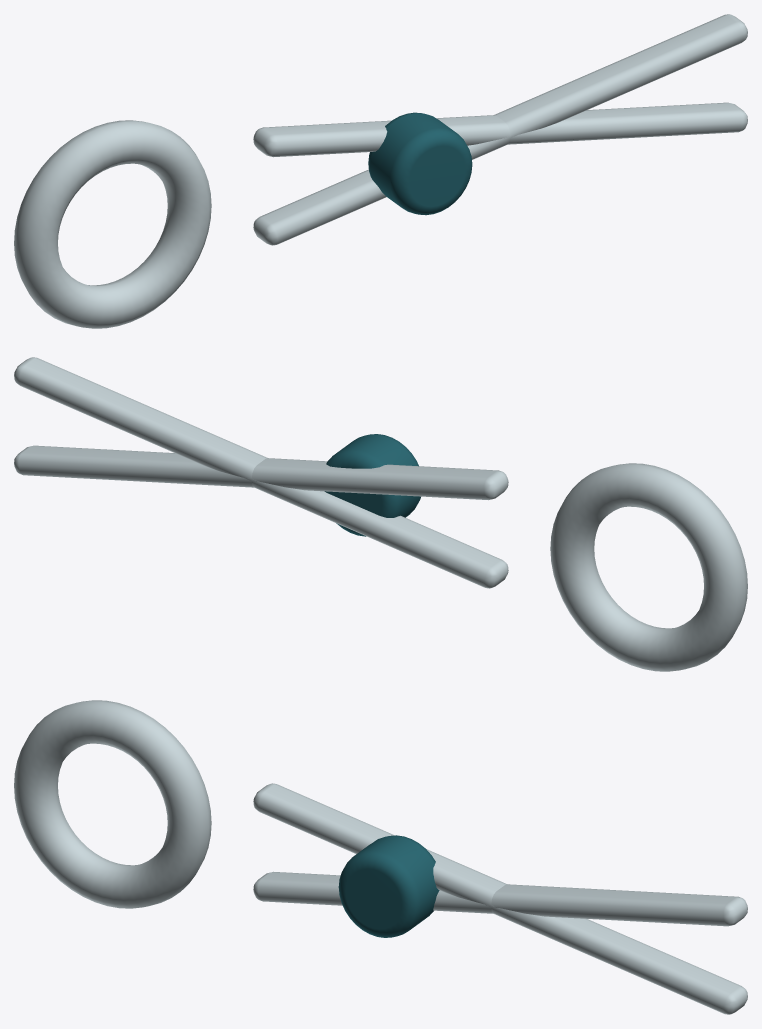
File: Tijeras_Quirurgicas.fbx
3 renders of one model, top to bottom at view 1: azimuth 30°, elevation 25°; view 2: azimuth 150°, elevation 25°; view 3: azimuth 330°, elevation 25°, orthographic.
Parts seen in each view (by area): view 1: Anilla_de_Tijera, Hoja_de_Tijera, Hoja_de_tijera_Parte_02, Eje_de_tijera; view 2: Anilla_de_Tijera, Hoja_de_Tijera, Hoja_de_tijera_Parte_02, Eje_de_tijera; view 3: Anilla_de_Tijera, Hoja_de_tijera_Parte_02, Hoja_de_Tijera, Eje_de_tijera.
Boxes of the visible parts, box(x1,y1,x2,y2) form: Anilla_de_Tijera: box(14, 120, 211, 328); Hoja_de_Tijera: box(253, 14, 747, 245); Hoja_de_tijera_Parte_02: box(253, 102, 747, 157); Eje_de_tijera: box(368, 112, 472, 215); Anilla_de_Tijera: box(550, 463, 747, 671); Hoja_de_Tijera: box(14, 357, 508, 588); Hoja_de_tijera_Parte_02: box(14, 445, 508, 500); Eje_de_tijera: box(324, 434, 420, 536); Anilla_de_Tijera: box(14, 700, 211, 908); Hoja_de_tijera_Parte_02: box(253, 783, 747, 1014); Hoja_de_Tijera: box(253, 871, 747, 926); Eje_de_tijera: box(338, 835, 439, 937).
Bounding box in the file's own units: 0.9909 × 0.262 × 0.101.
